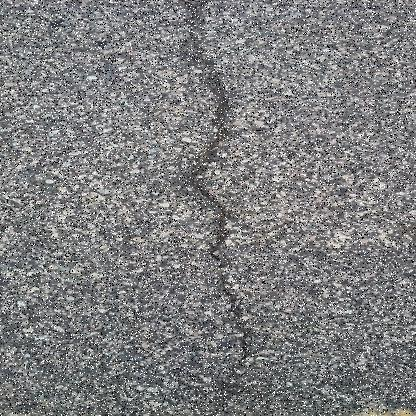Cracks: (162, 0, 269, 382)
